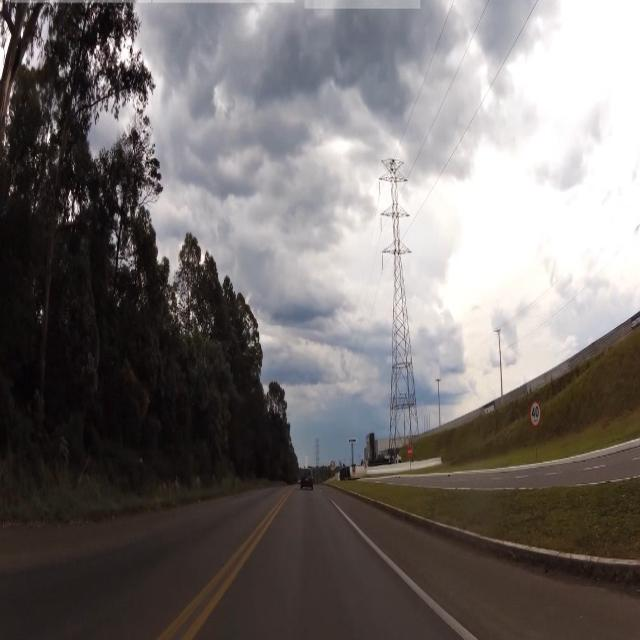R-19: (530, 401, 542, 429)
